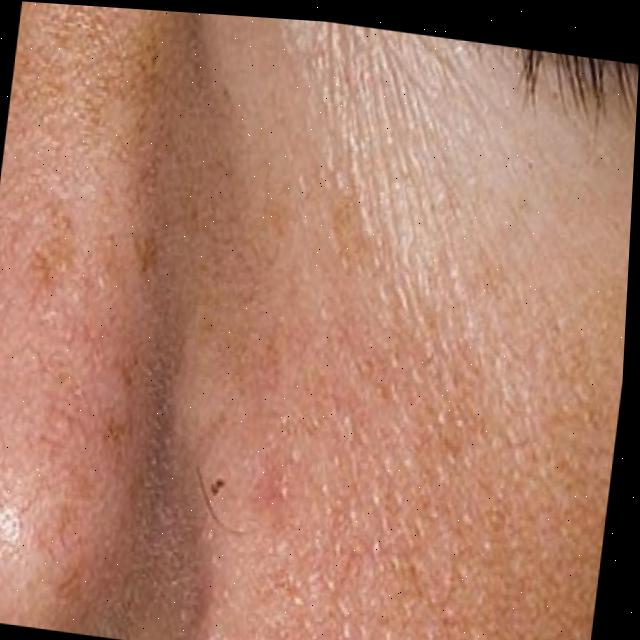Rosacea: (0, 72, 209, 539)
